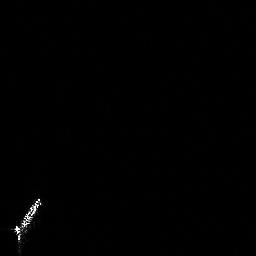ship: (7, 192, 46, 251)
